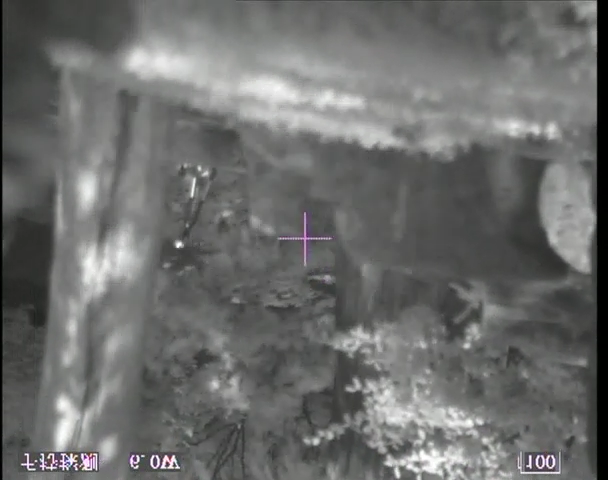my: (173, 239, 184, 249)
